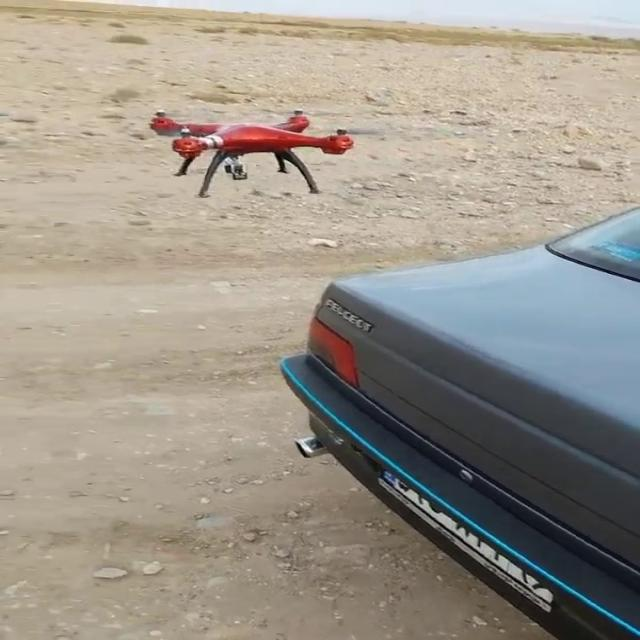drone: (140, 102, 382, 202)
